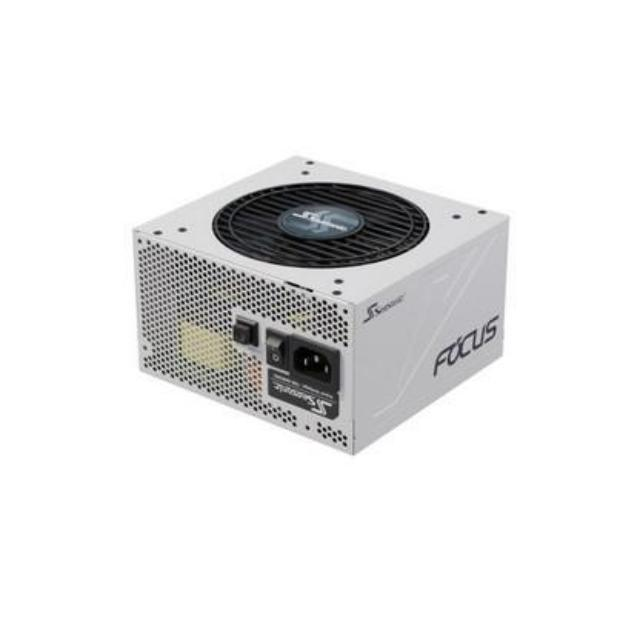PSU: (116, 142, 526, 470)
